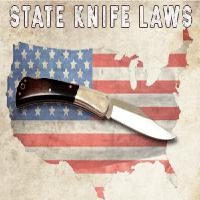knife: (10, 70, 182, 155)
